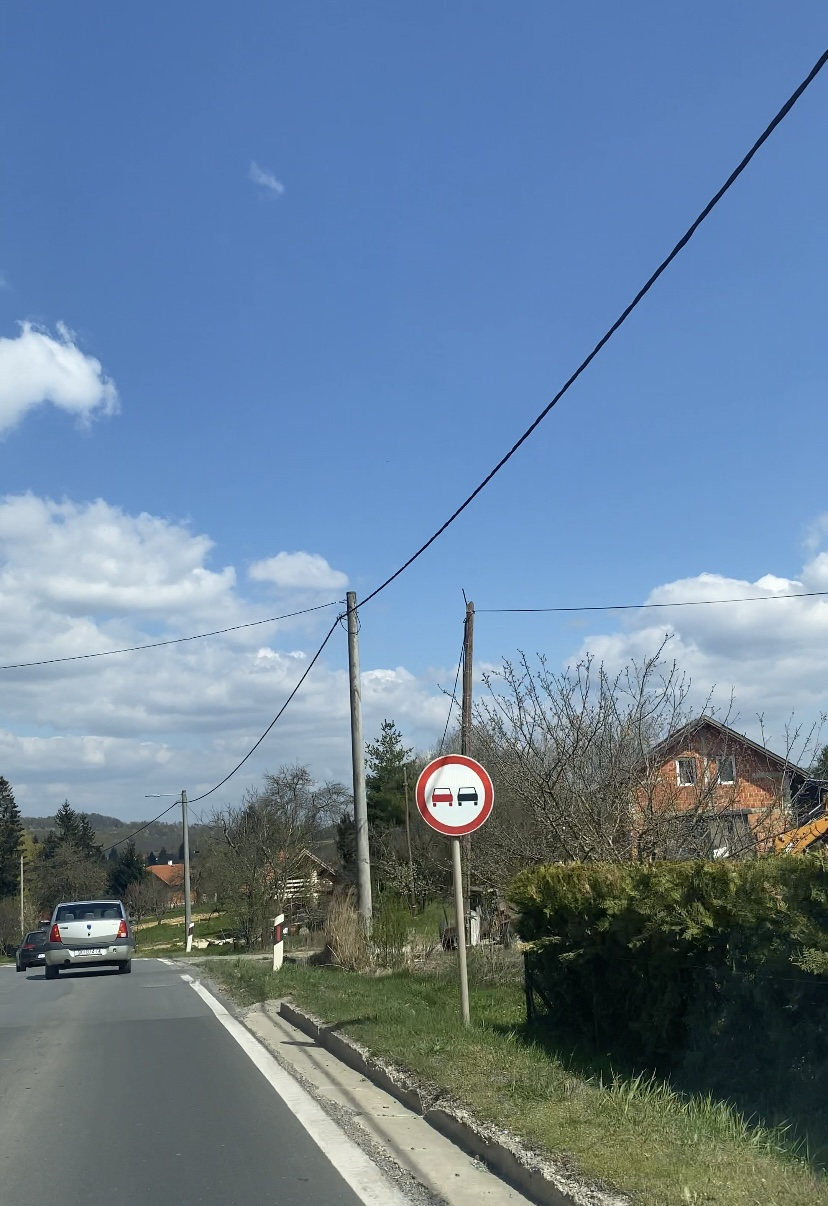Zabrana pretjecanja: (416, 754, 494, 835)
